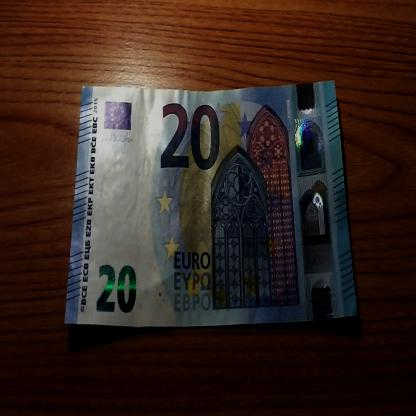euro_banknote: (62, 84, 355, 327)
